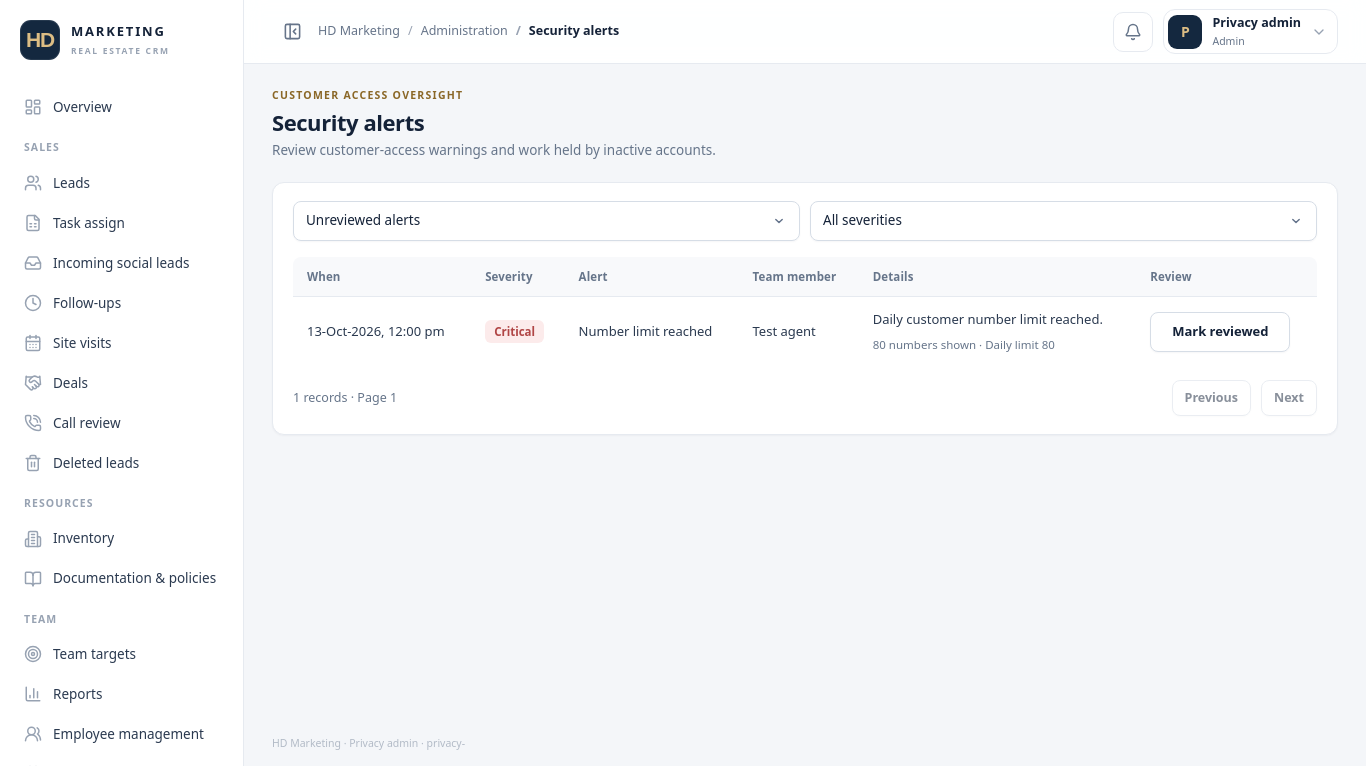
Scenario: P2 admin security alerts › keeps a failed review unreviewed and displays a readable retry error
This screenshot has width=1366, height=766.
Expected: the text "Test agent" is shown, [738,297,859,366]
What coordinates should you click on to do the following:
click the button "Mark reviewed"
I would click on:
 (1220, 332)
Its box is [1150,312,1290,352].
(page scrolled)
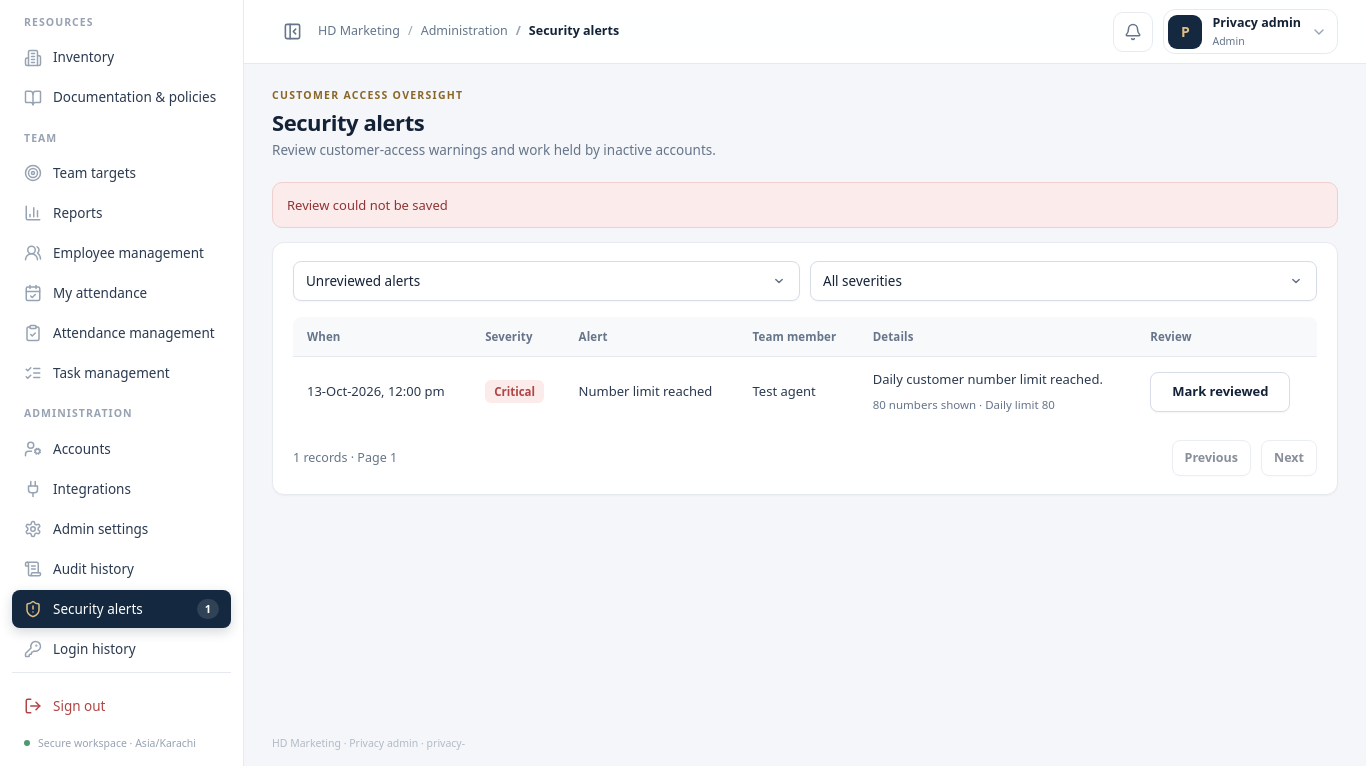
Expected: the message "Review could not be saved" is shown, [272,182,1338,228]
Expected: the message reads "Review could not be saved", [287,196,448,214]
Expected: the text named "1 unreviewed security alerts" is shown, [197,599,219,619]
